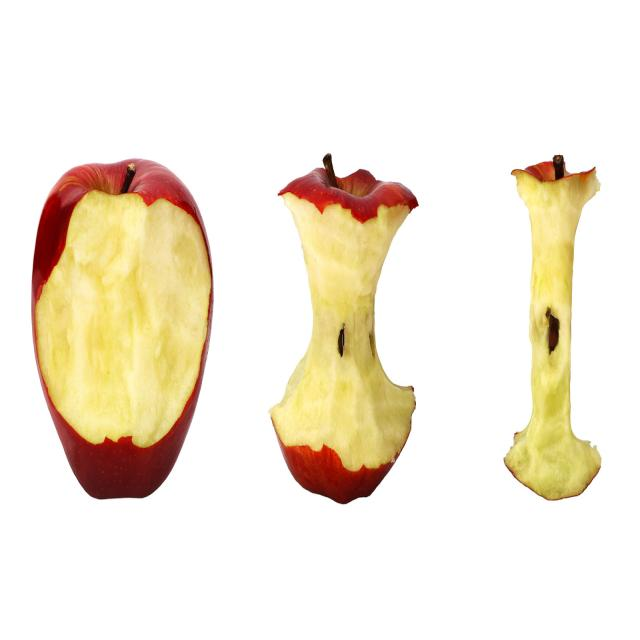apple_fruit: (17, 112, 230, 535), (248, 158, 409, 513), (491, 129, 615, 533)
